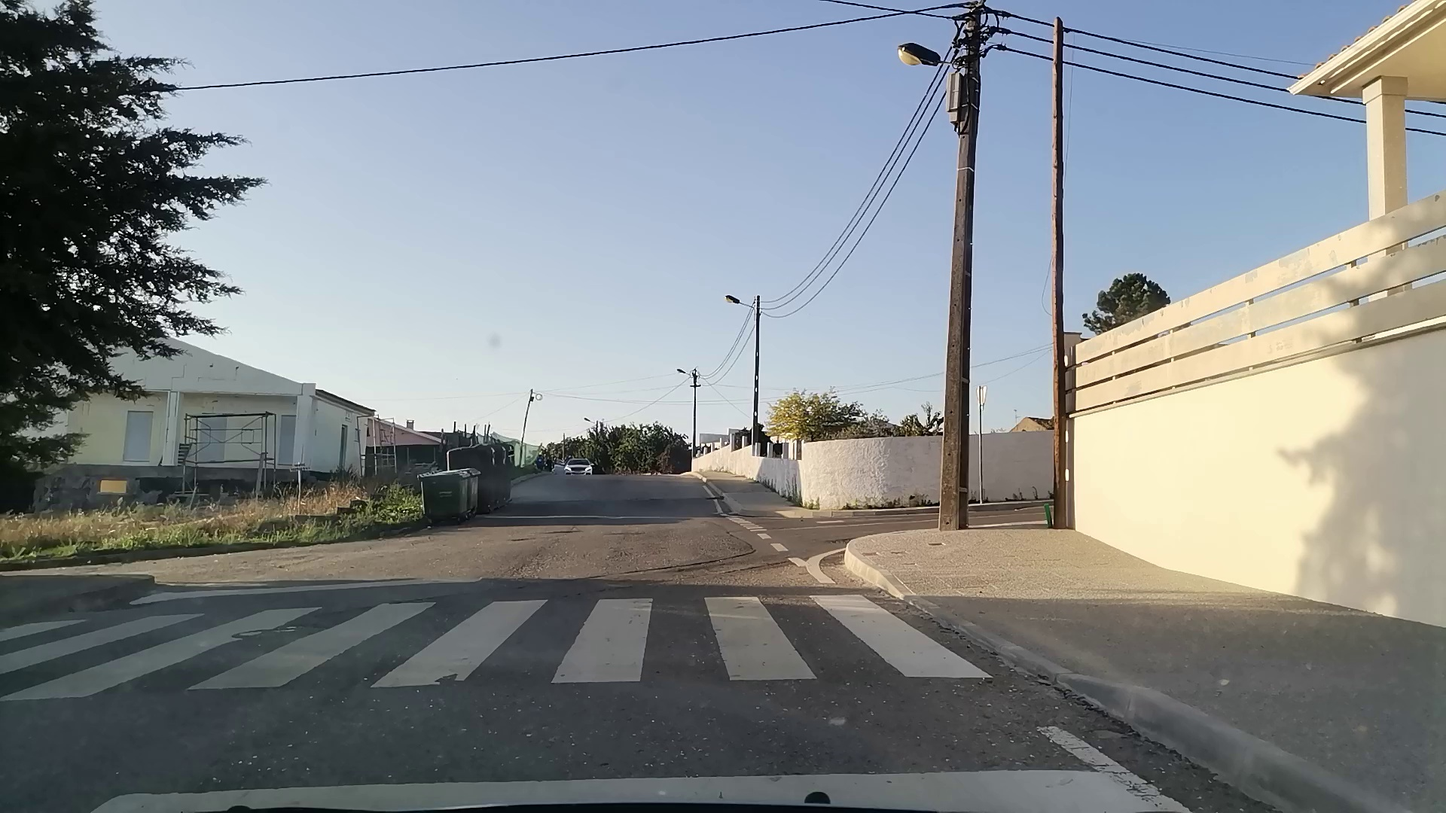Stairs: (0, 591, 994, 706)
